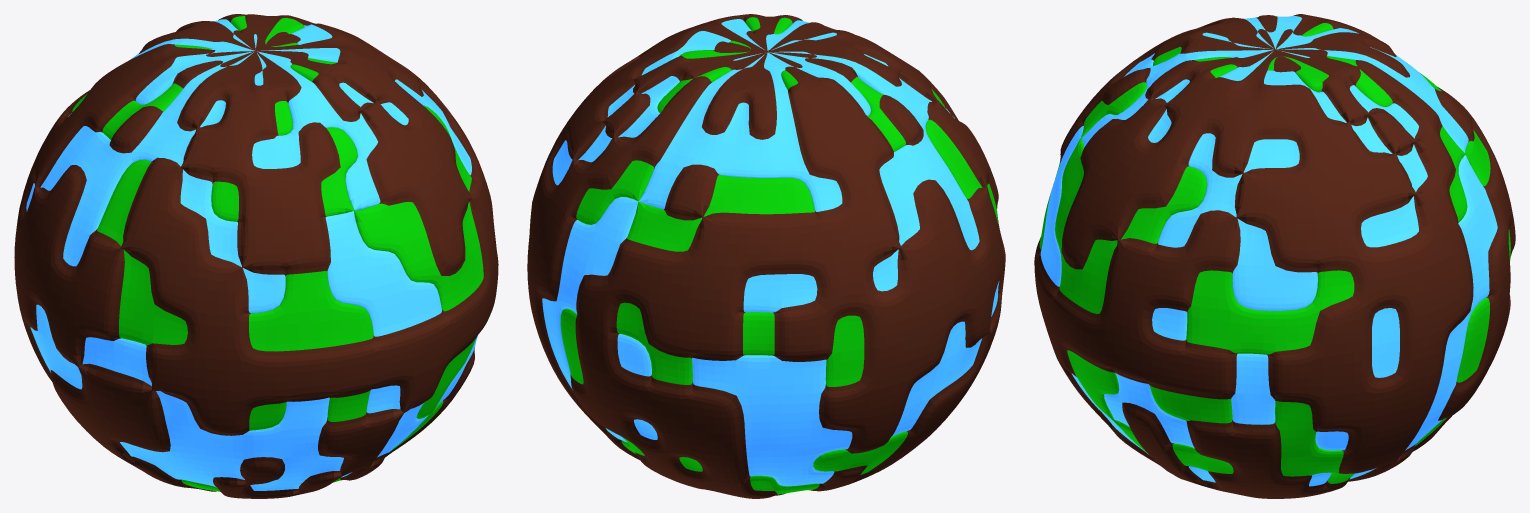
The model's file is planet_Earthy.fbx.
3 views of the same model, side by side, from view 1: azimuth 30°, elevation 25°; view 2: azimuth 150°, elevation 25°; view 3: azimuth 270°, elevation 25° (orthographic).
Parts seen in each view (by area): view 1: Sphere; view 2: Sphere; view 3: Sphere.
Part boxes in pixels (x1,y1,x2,y2): Sphere: (14, 14, 498, 498); Sphere: (527, 14, 1005, 498); Sphere: (1034, 14, 1515, 498).
Size of the model in its own units: 197 by 186 by 197.
